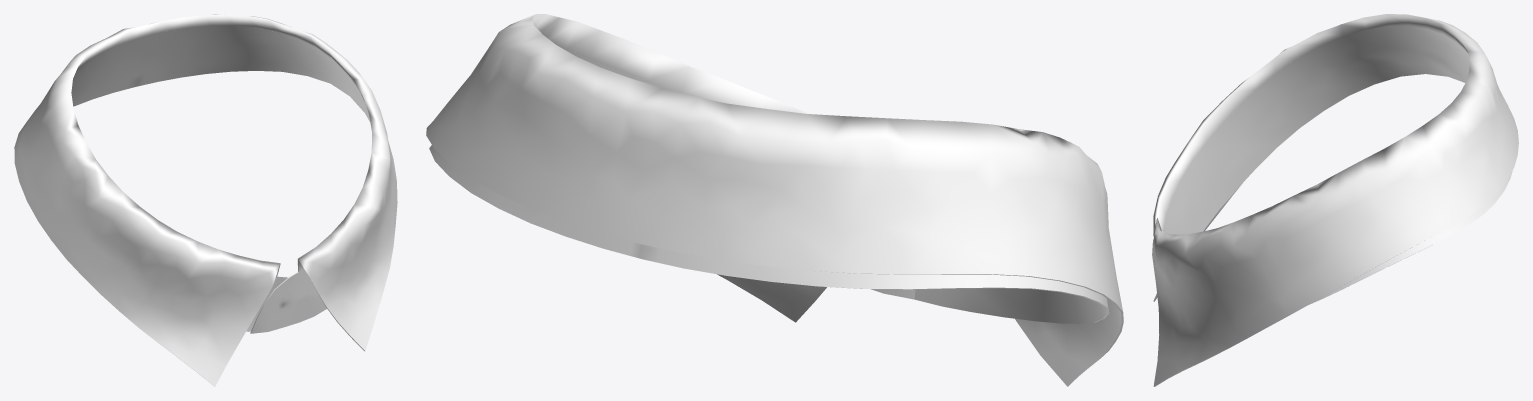
File: collar-single-button.glb
The picture shows the model from 3 angles, left to right: view 1: azimuth 30°, elevation 25°; view 2: azimuth 150°, elevation 25°; view 3: azimuth 270°, elevation 25°; orthographic projection. The views are drawn at different scales.
Visible parts, largest first — view 1: Collar_Node, Collar_Stand_Node; view 2: Collar_Node, Collar_Stand_Node; view 3: Collar_Node, Collar_Stand_Node.
Part boxes in pixels (x1,y1,x2,y2): Collar_Node: [14, 14, 397, 386]; Collar_Stand_Node: [71, 25, 370, 333]; Collar_Node: [426, 14, 1123, 386]; Collar_Stand_Node: [429, 47, 1109, 323]; Collar_Node: [1152, 14, 1518, 386]; Collar_Stand_Node: [1163, 26, 1512, 304].
Bounding box in the file's own units: 0.1675 × 0.1121 × 0.1326.
Materials: 2 (2 with a texture image).
